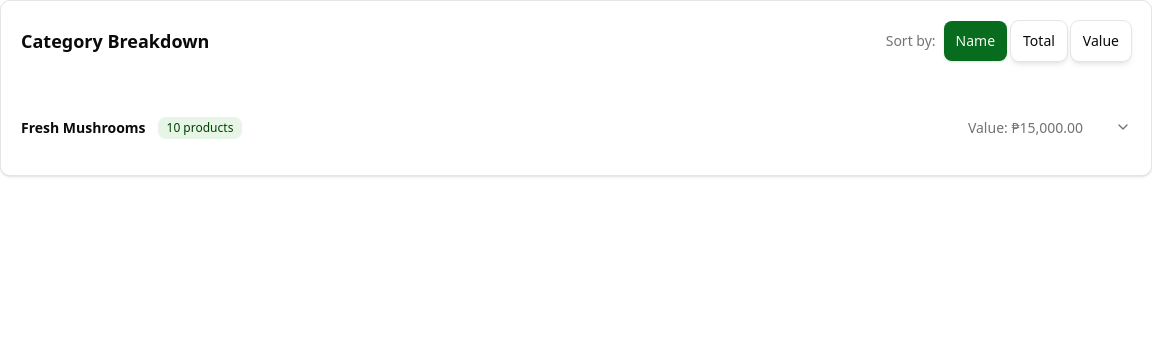
Test: CategoryInventoryBreakdown › Edge Cases › should handle zero lowStockThreshold
Click the heading "Fresh Mushrooms": (83, 128) x1=21 y1=118 x2=146 y2=138
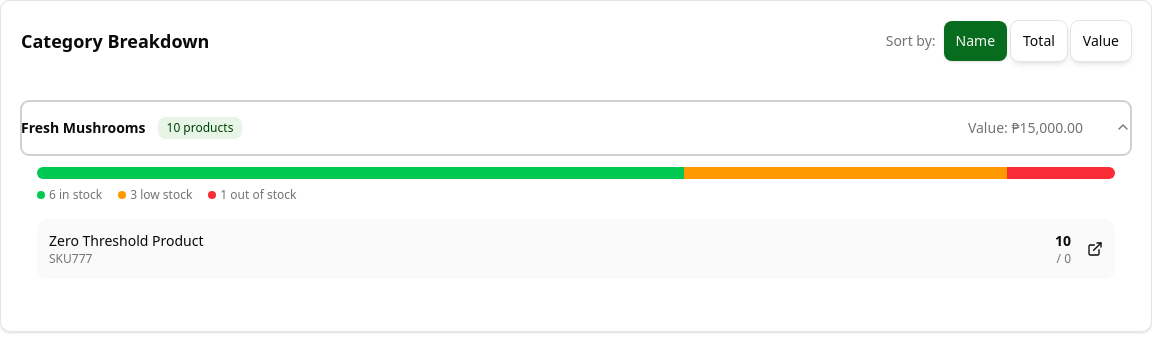
Expected: the text "Zero Threshold Product" is shown, x1=49 y1=231 x2=204 y2=251
Expected: the text "10" is shown, x1=1055 y1=231 x2=1071 y2=251
